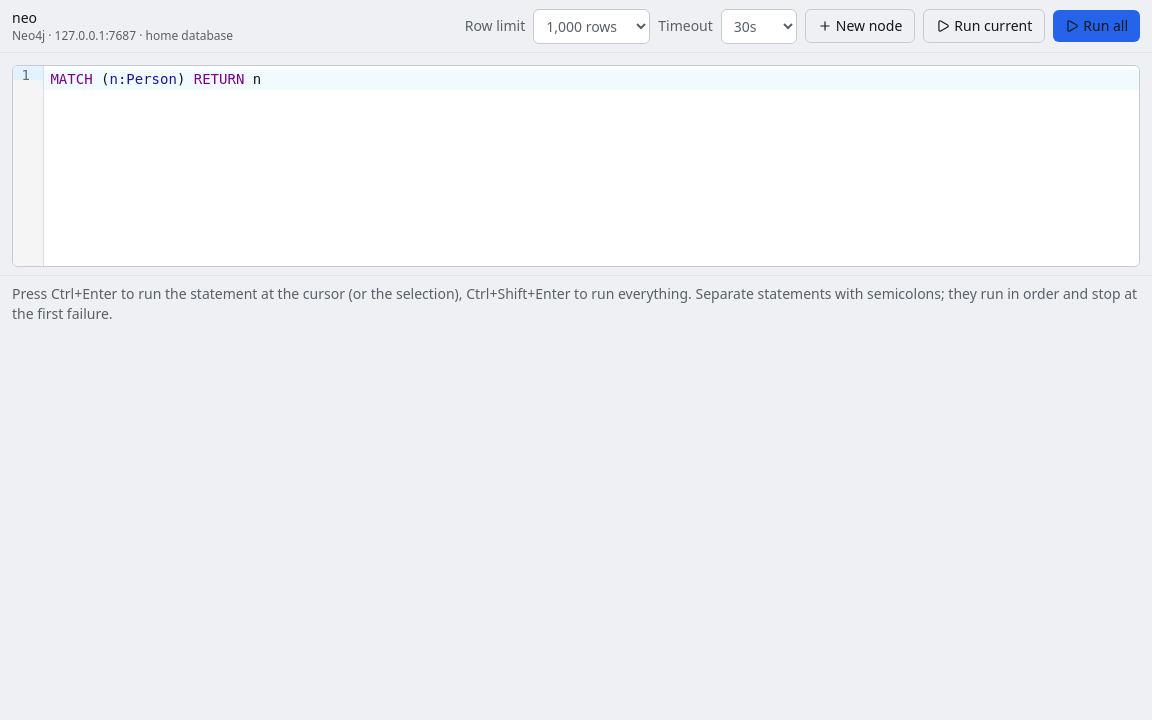
Test: CypherWorkbench 的结果摘要 › 直连的不写成员
Click the button "Run all" at (1097, 26), box [1053, 10, 1140, 42]
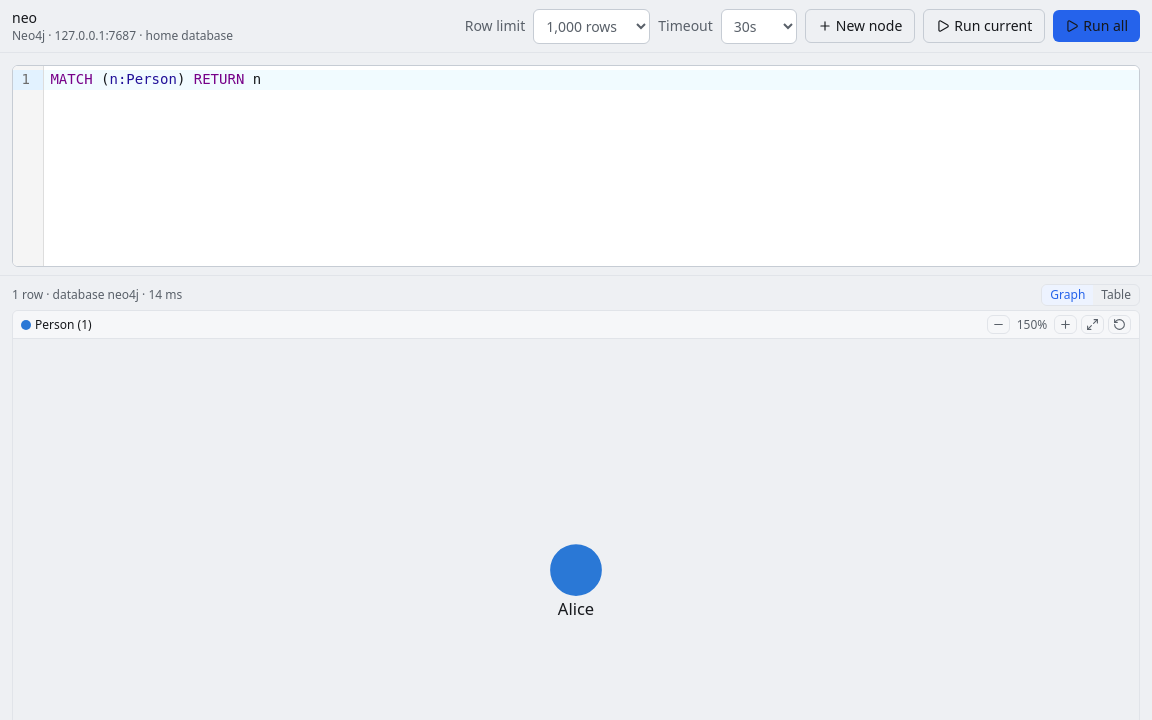
Expected: the text "database neo4j" is shown, [12, 286, 182, 303]
